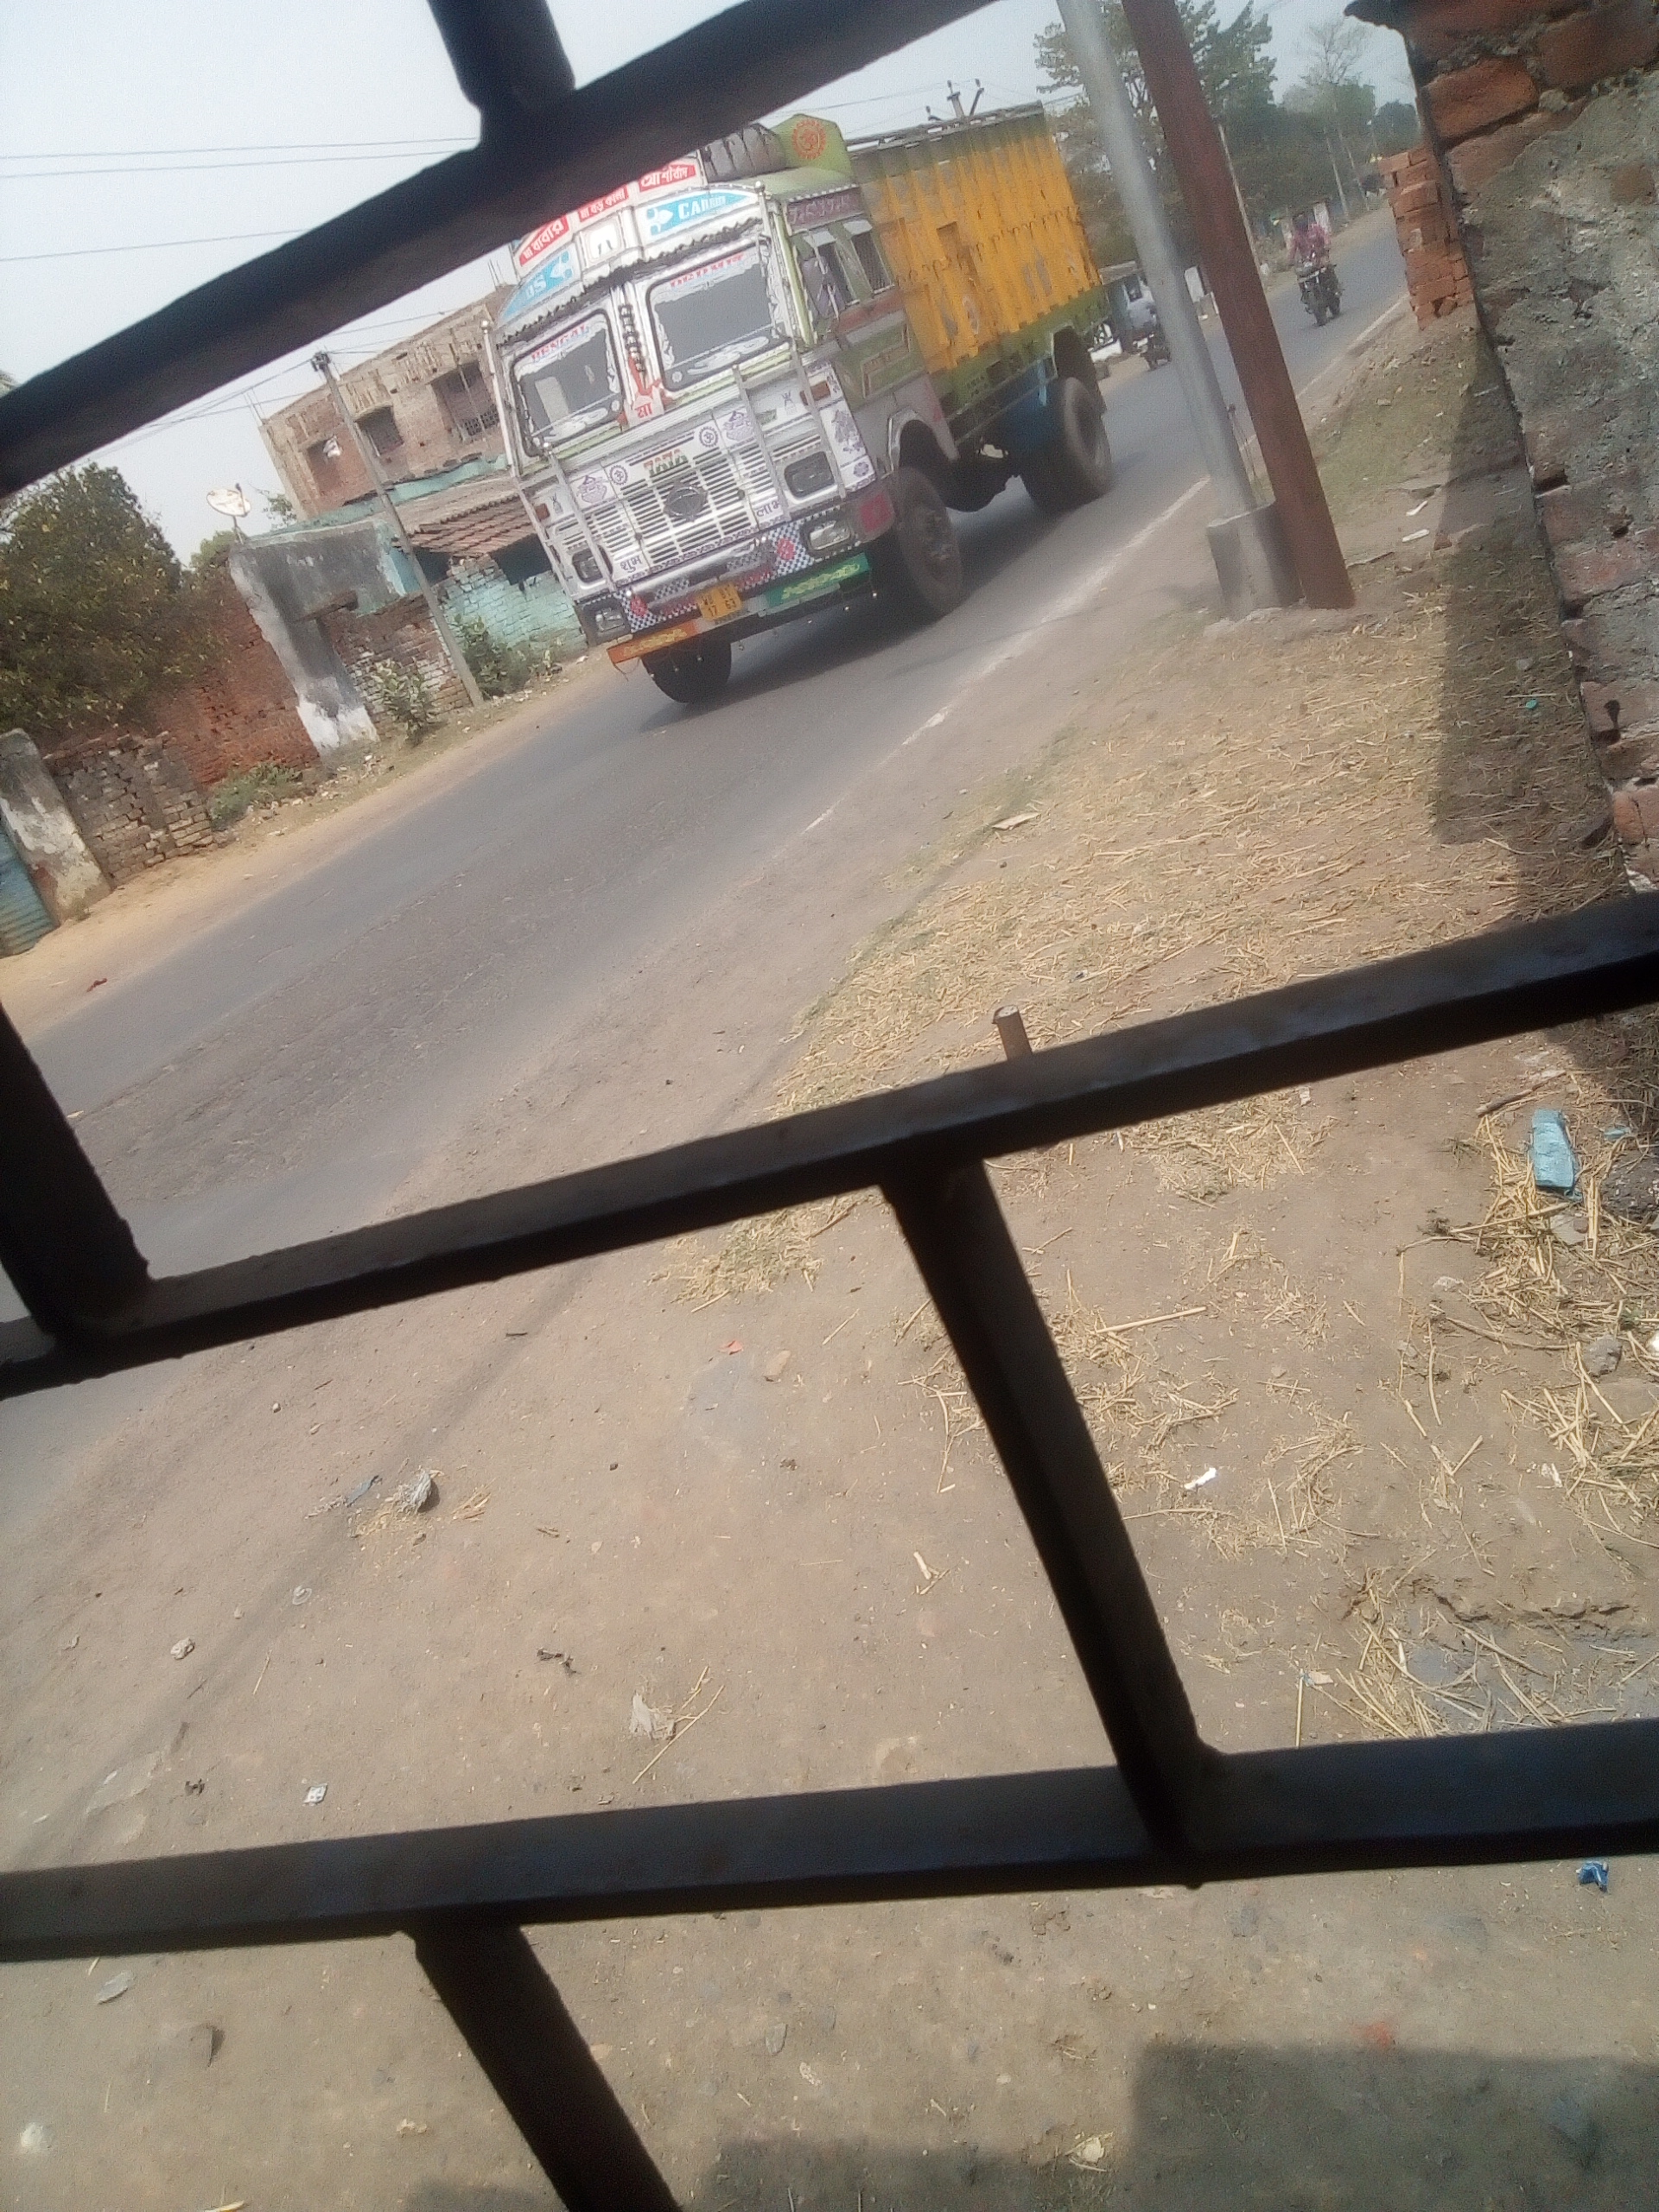truck: (477, 96, 1117, 705)
